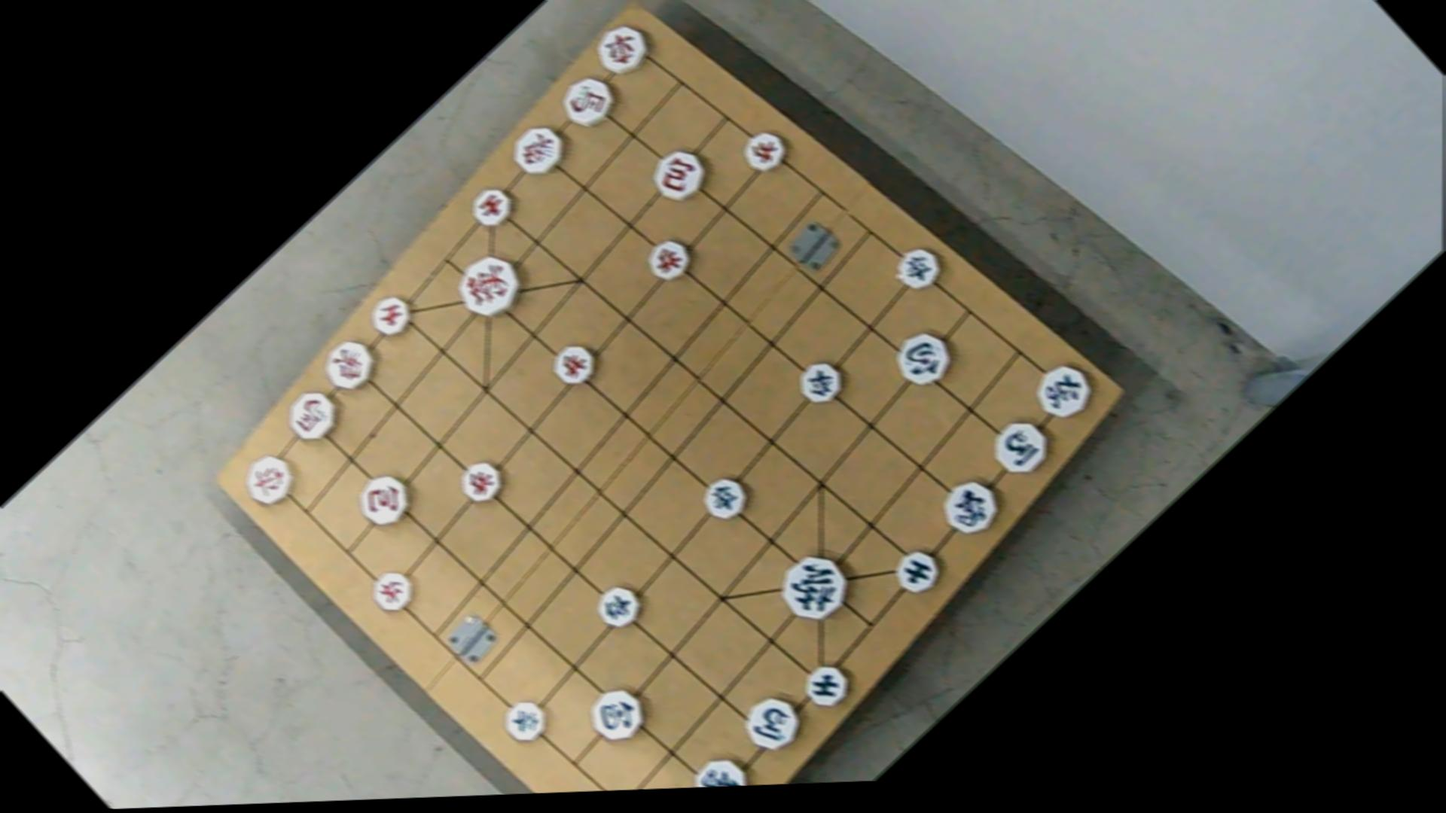cha_green: (1023, 347, 1103, 428)
cha_red: (588, 14, 658, 83), (236, 447, 304, 515)
jol_green: (696, 466, 755, 524), (589, 579, 648, 637), (792, 352, 850, 410), (889, 239, 947, 297), (498, 695, 554, 751)
jol_red: (733, 120, 797, 184), (452, 454, 509, 511), (642, 232, 698, 288), (544, 336, 599, 392), (365, 562, 420, 617)
ma_green: (734, 687, 806, 760), (984, 412, 1056, 483)
ma_red: (553, 65, 624, 136), (281, 379, 349, 446)
po_green: (581, 678, 654, 751), (888, 323, 961, 396)
po_red: (646, 139, 716, 209), (352, 467, 419, 533)
sa_green: (799, 654, 858, 713), (888, 542, 947, 601)
sa_red: (364, 287, 418, 341), (465, 178, 518, 232)
sang_green: (932, 470, 1005, 543), (683, 745, 757, 787)
sang_red: (502, 114, 571, 184), (316, 330, 386, 399)
wang_green: (770, 544, 856, 631)
wang_red: (451, 245, 532, 327)
